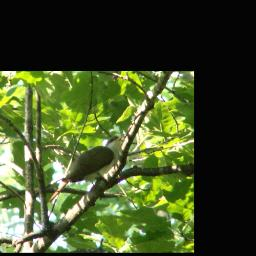Cuckoo: (46, 133, 127, 204)
